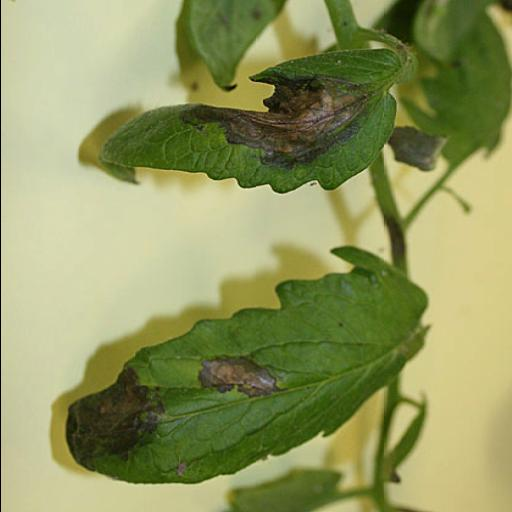disease_tomato: (59, 243, 432, 485), (99, 48, 417, 192)
